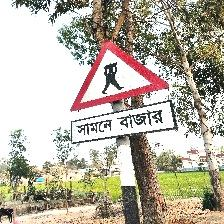Market-in-front: (68, 40, 177, 145)
